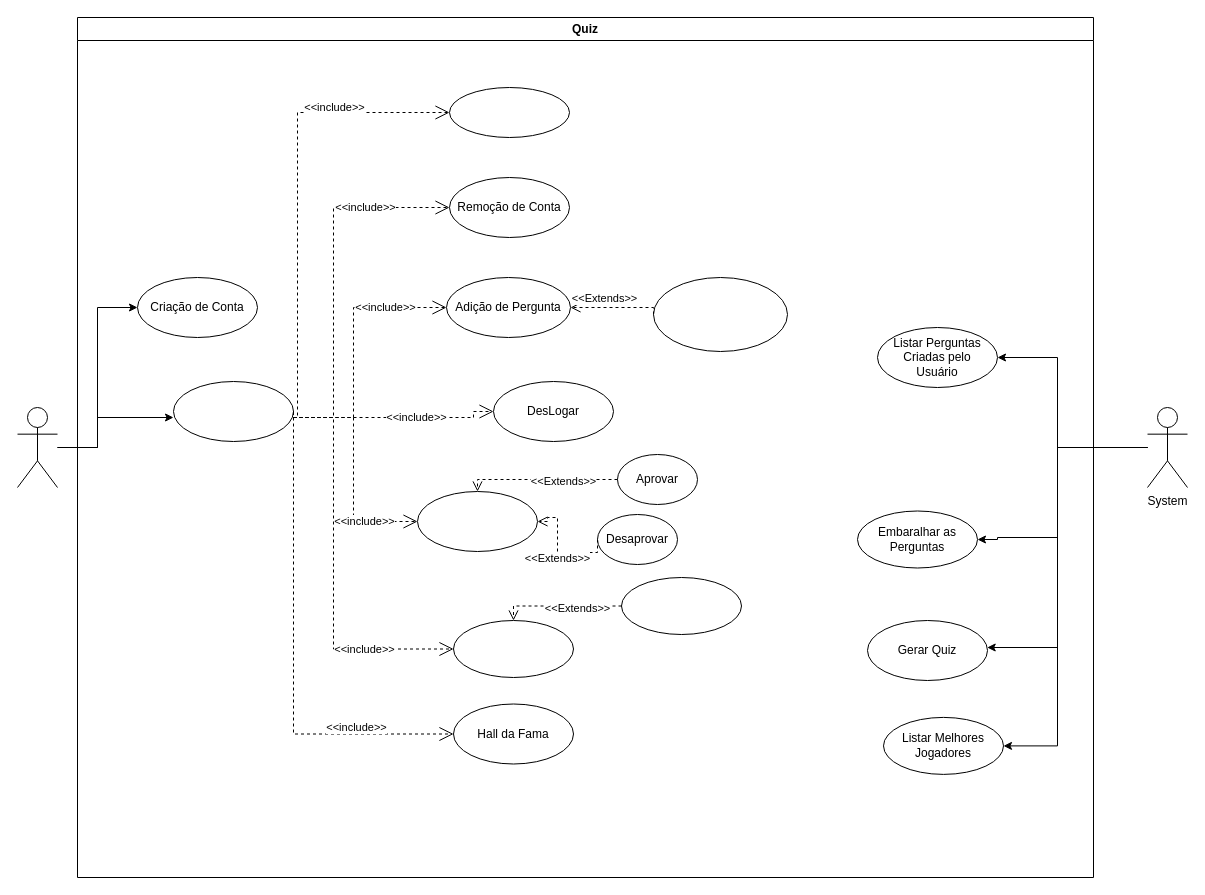
The diagram is 1205 pixels wide and 895 high, and some of its shapes have lost their labels. The shapes that lost their labels are listed below. From the top down, each one's centre as x and y in pixels, then its label:
At point (509, 112): "Edição de Conta".
At point (720, 314): "Edição de Perguntas Rejeitas que foram Criadas".
At point (233, 411): "Logar".
At point (37, 447): "User".
At point (477, 521): "Revisar Perguntas dos Usuários".
At point (681, 605): "Eliminar duas respostas erradas".
At point (513, 649): "Jogar".
